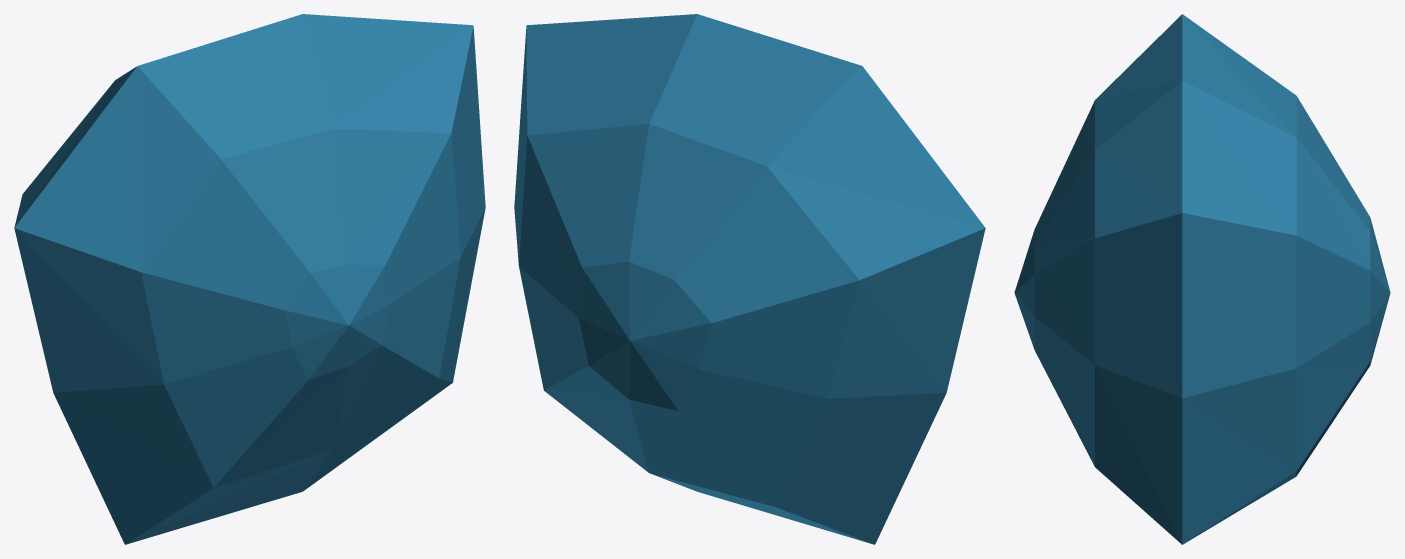
The model's file is SM_LumenRock.obj.
3 views of the same model, side by side, from view 1: azimuth 30°, elevation 25°; view 2: azimuth 150°, elevation 25°; view 3: azimuth 270°, elevation 25° (orthographic). The views are drawn at different scales.
Visible parts, largest first — view 1: SM_LumenRock; view 2: SM_LumenRock; view 3: SM_LumenRock.
Part boxes in pixels (box(x1,y1,x2,y2)): SM_LumenRock: box(14, 14, 485, 544); SM_LumenRock: box(514, 14, 985, 544); SM_LumenRock: box(1014, 14, 1390, 544).
Size of the model in its own units: 119 by 118 by 85.12.
